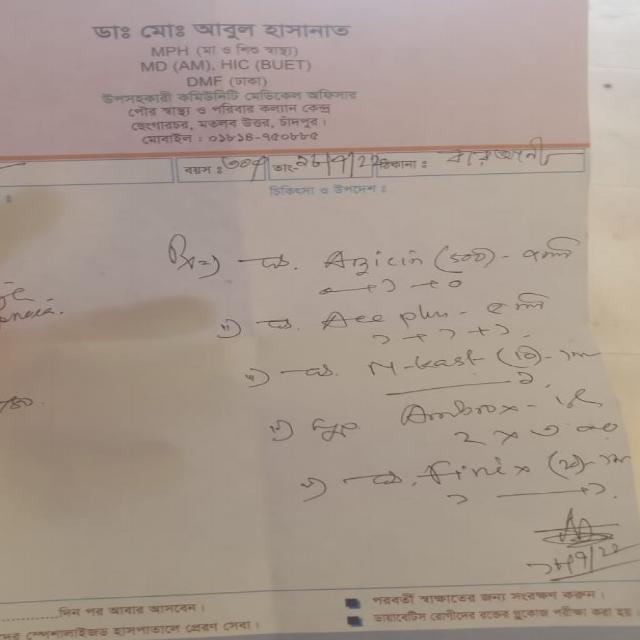Ace Plus: (308, 301, 455, 332)
Ambrox: (382, 391, 547, 428)
Azicin: (313, 242, 434, 282)
Finix: (412, 451, 540, 487)
M Kast: (350, 347, 494, 384)
